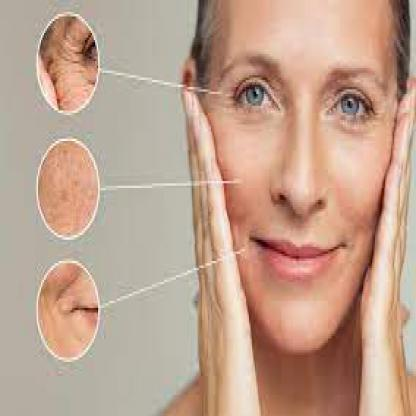darkspot: (258, 34, 286, 71), (114, 364, 130, 394), (85, 392, 105, 412), (342, 339, 360, 360), (145, 47, 162, 67)
